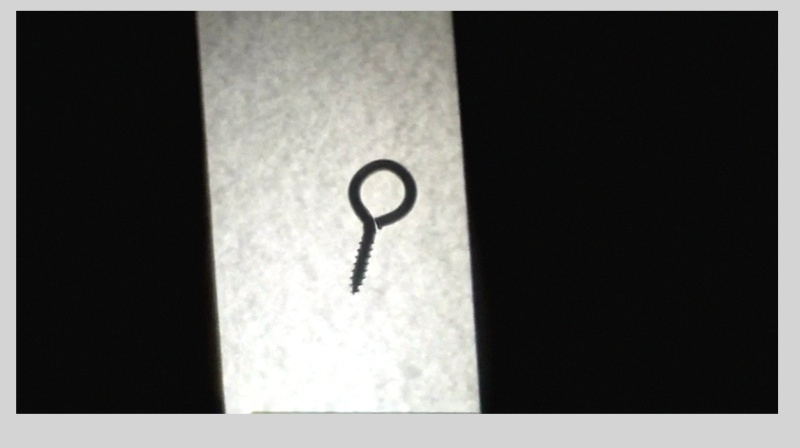O001: (343, 158, 421, 297)
